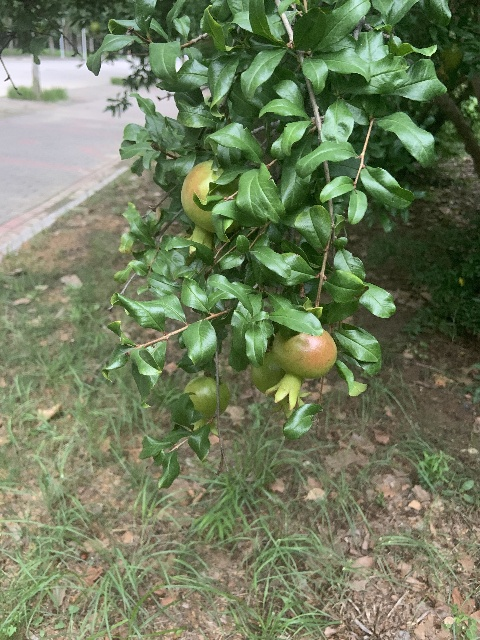mid-growth: (263, 329, 337, 410), (180, 159, 241, 256), (250, 351, 312, 419), (183, 375, 230, 437), (436, 45, 462, 83)
